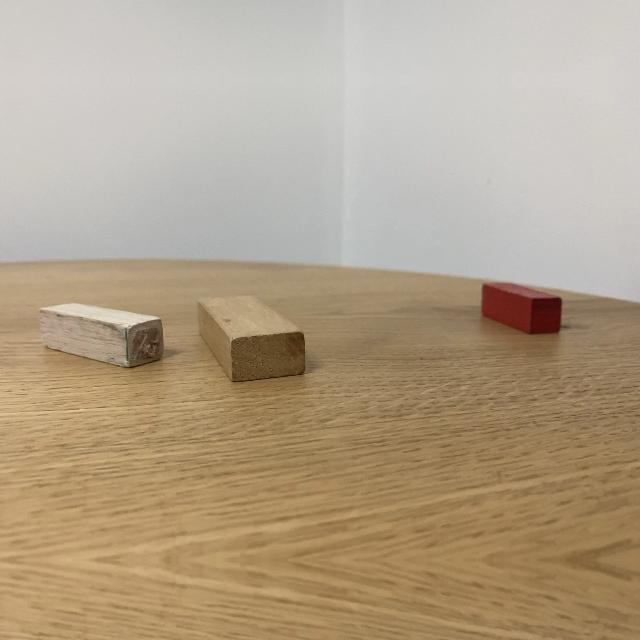block: (39, 303, 164, 368)
jenga: (197, 295, 306, 381)
red block: (481, 283, 562, 334)
